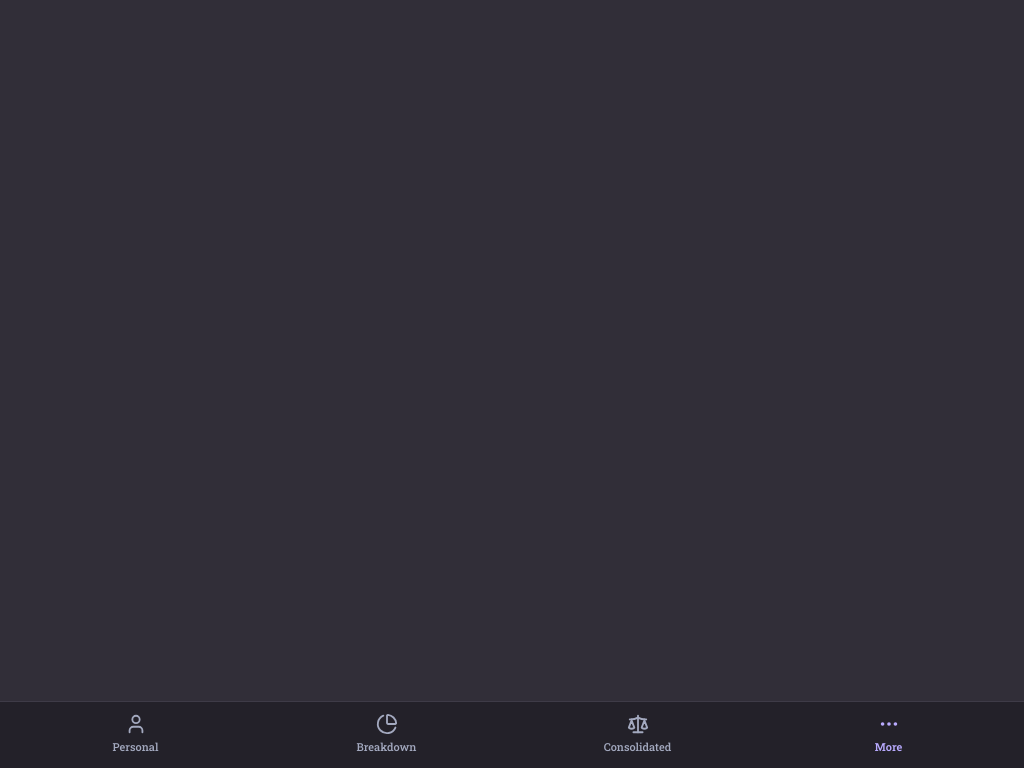
Scenario: BottomTabBar More sheet › closes after choosing a page
The image size is (1024, 768).
Click the button "More": (888, 734) top-left (765, 712), bottom-right (1012, 756)
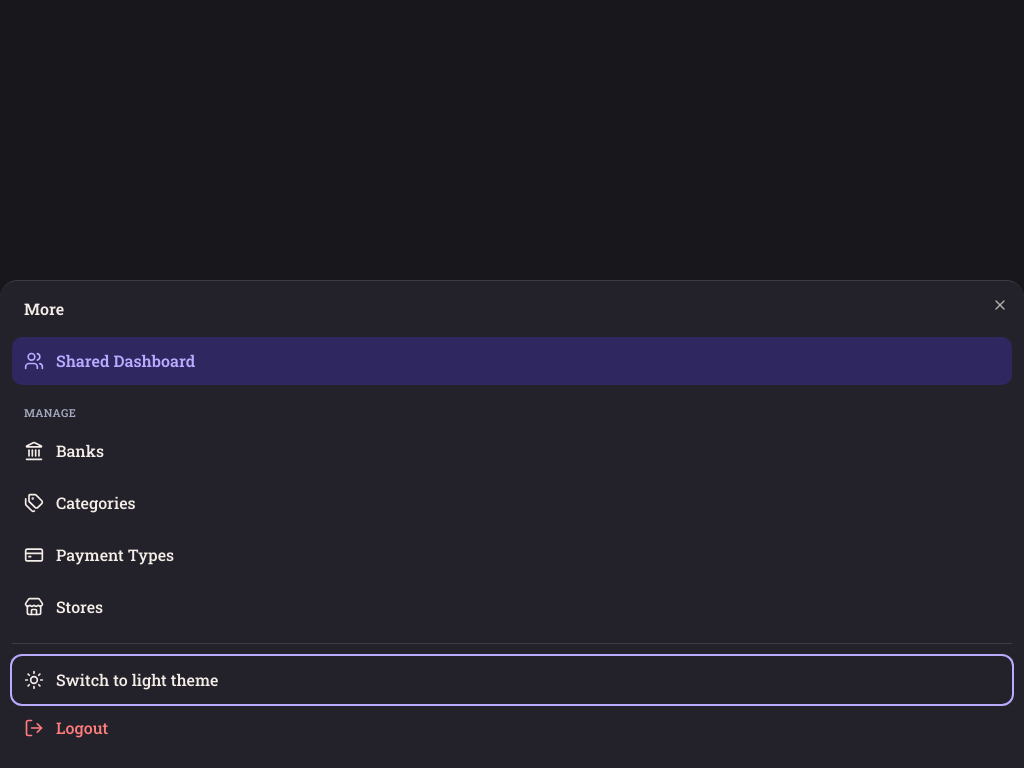
Click the link "Banks": (64, 450) top-left (24, 440), bottom-right (104, 461)
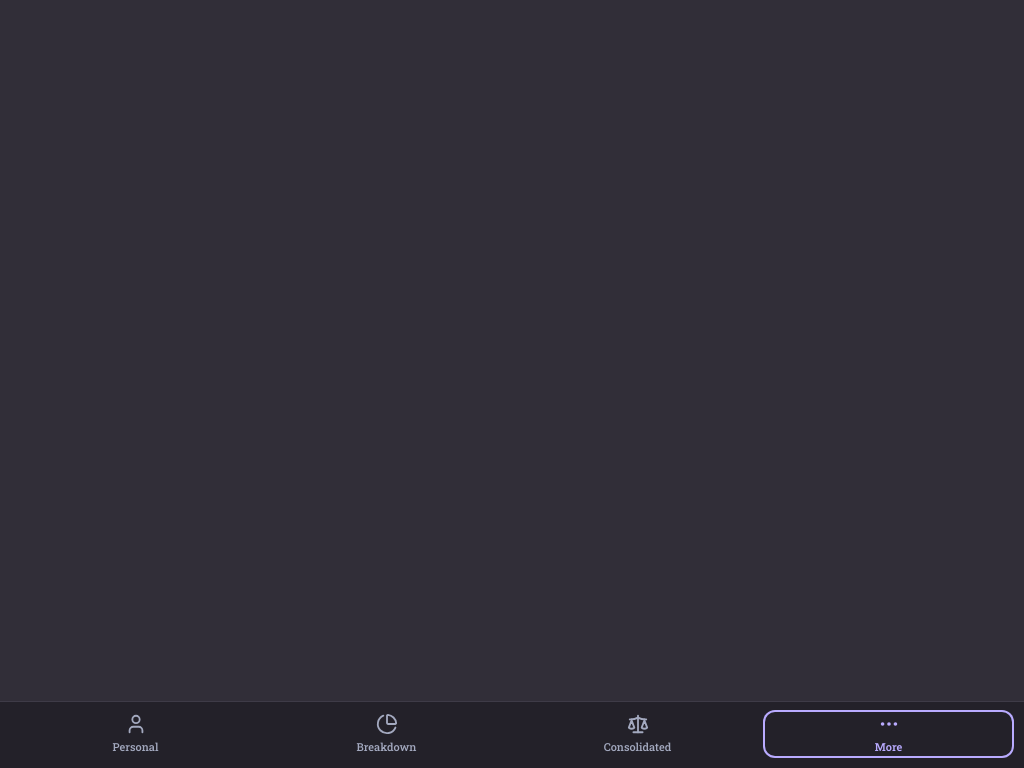
Expected: the dialog is gone
